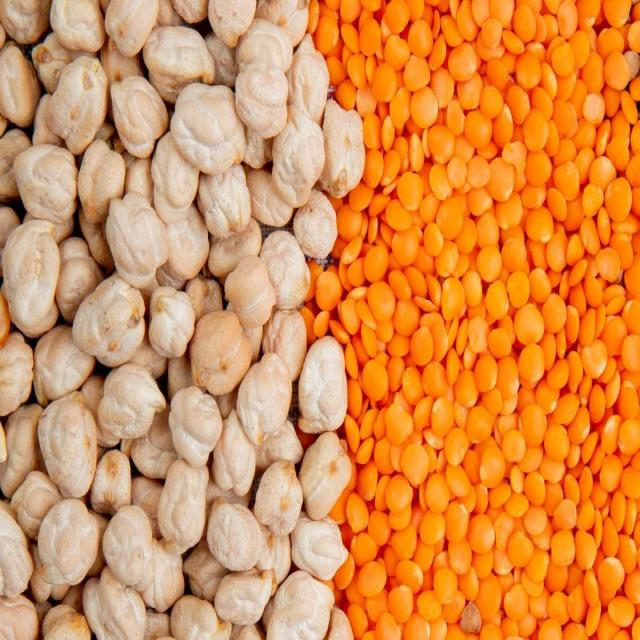arvejas: (368, 7, 636, 631)
